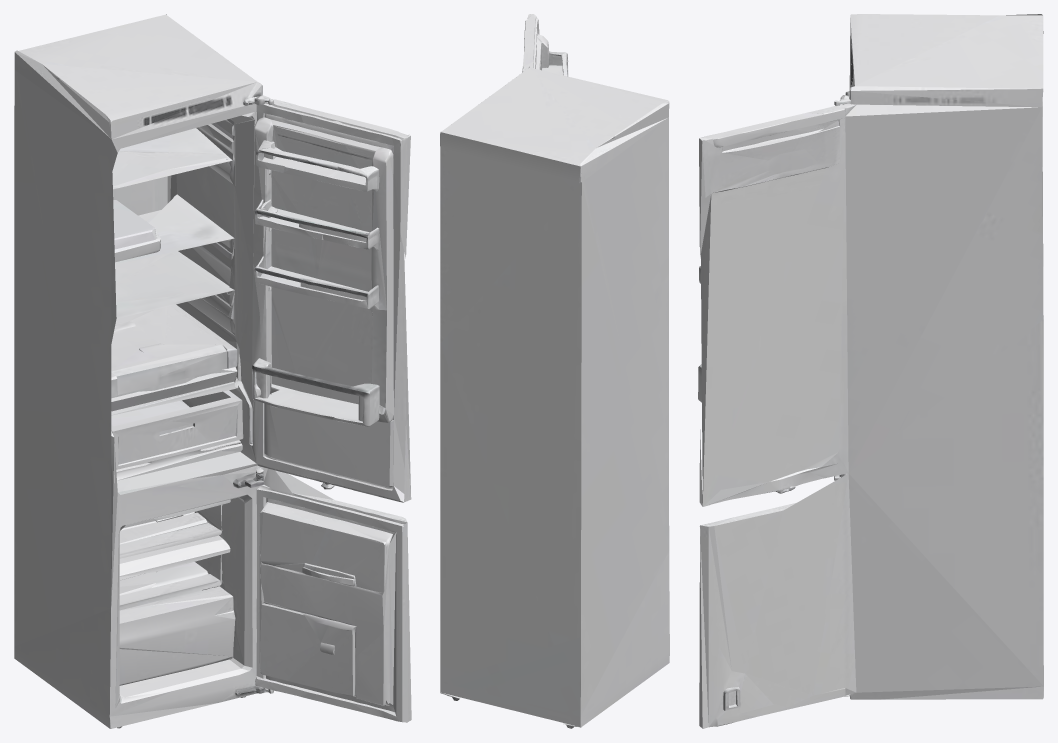
The model's file is sauter-fridge-integrated-svri396r.glb.
3 views of the same model, side by side, from view 1: azimuth 30°, elevation 25°; view 2: azimuth 150°, elevation 25°; view 3: azimuth 270°, elevation 25° (orthographic). The views are drawn at different scales.
Size of the model in its own units: 0.7383 by 1.9 by 0.964.
Materials: 1 (1 with a texture image).
